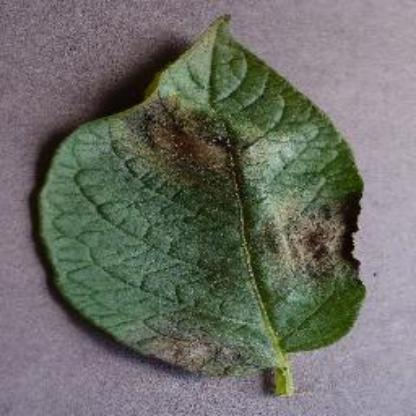Late-Blight: (27, 37, 413, 387)
